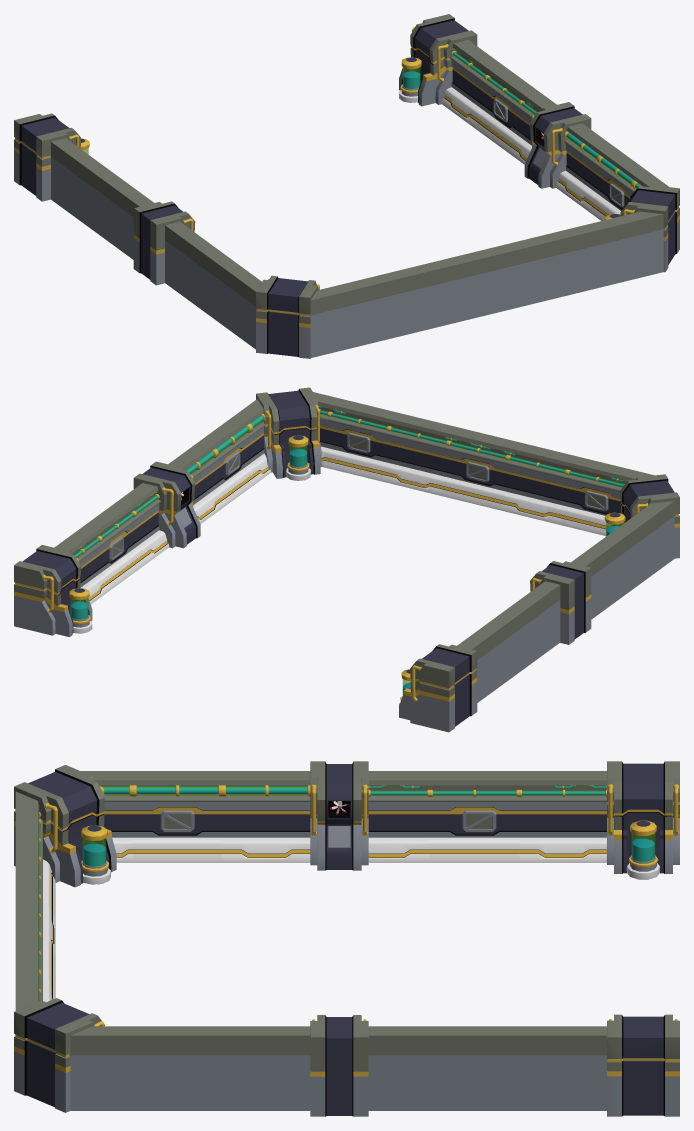
File: Level24.fbx
3 renders of one model, top to bottom at view 1: azimuth 30°, elevation 25°; view 2: azimuth 150°, elevation 25°; view 3: azimuth 270°, elevation 25°, orthographic. The views are drawn at different scales.
Visible parts, largest first — view 1: Base (×24), Bottle; view 2: Base (×24), Bottle (×2); view 3: Base (×23), Bottle (×2), Pipe1 (×2), Cage (×2), Pipe2, Pipe3.
Boxes of the visible parts, <box> form: Base (×24): <box>14,14,679,358</box>; Bottle: <box>399,57,421,102</box>; Base (×24): <box>14,387,679,732</box>; Bottle (×2): <box>69,435,310,633</box>; Base (×23): <box>14,761,679,1116</box>; Bottle (×2): <box>81,820,659,884</box>; Pipe1 (×2): <box>133,785,310,796</box>; Cage (×2): <box>160,810,496,831</box>; Pipe2: <box>430,789,519,796</box>; Pipe3: <box>520,789,606,796</box>.
Size of the model in its own units: 537 by 72.44 by 547.
